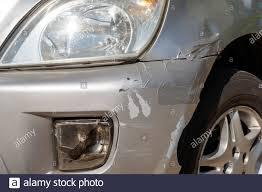fender-dent: (145, 0, 261, 112)
front-bumper-dent: (0, 62, 223, 177)
